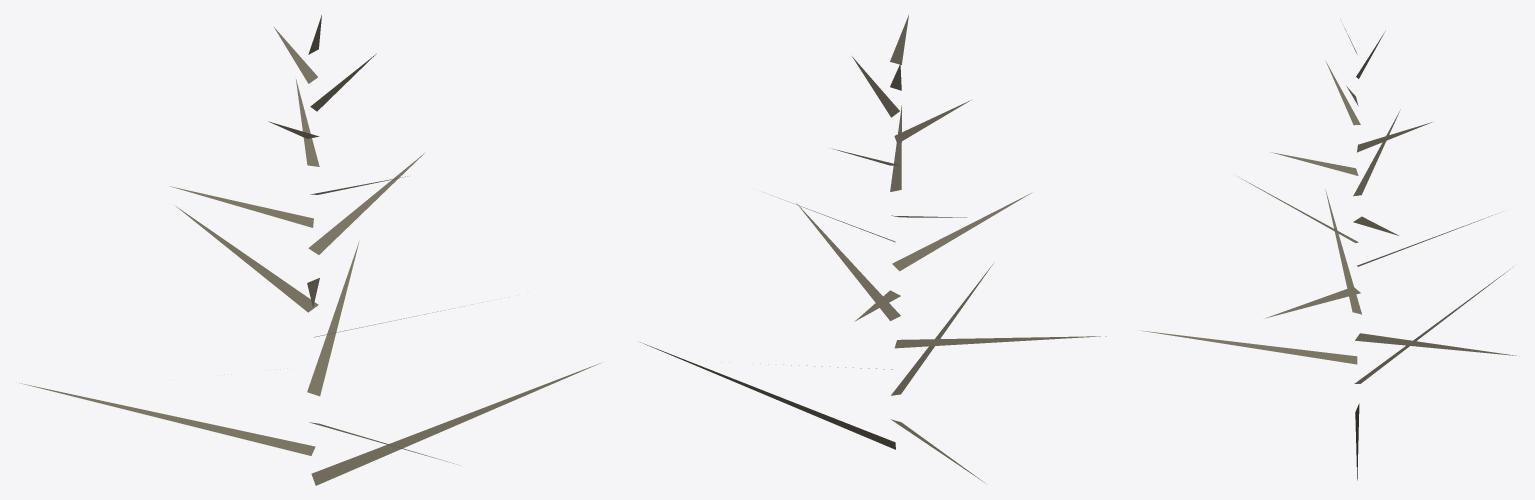
File: teaching3-vegetation-05-far.glb
The picture shows the model from 3 angles, left to right: view 1: azimuth 30°, elevation 25°; view 2: azimuth 150°, elevation 25°; view 3: azimuth 270°, elevation 25°; orthographic projection. The views are drawn at different scales.
Visible parts, largest first — view 1: vegetation cedar branches; view 2: vegetation cedar branches; view 3: vegetation cedar branches.
Boxes of the visible parts, <box> form: vegetation cedar branches: <box>19,15,600,485</box>; vegetation cedar branches: <box>640,15,1106,483</box>; vegetation cedar branches: <box>1139,19,1519,480</box>.
Size of the model in its own units: 8.97 by 8.09 by 7.11.
